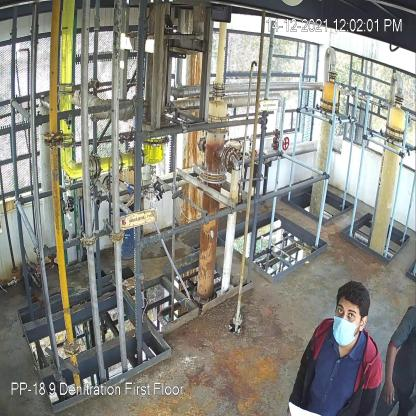no_goggles: (334, 304, 358, 322)
